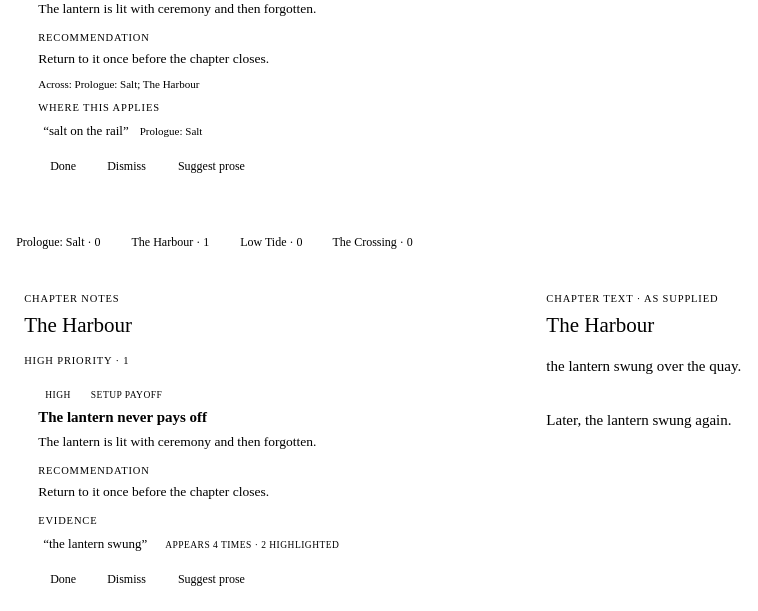
NotesScreen · results › suggests prose for a note and says nothing is saved
(page scrolled)
What coordinates should you click on to do the following:
click the button "Suggest prose" below "appears 4 times · 2 highlighted"
I would click on:
 (211, 580)
Its box is [165,565,258,595].
(page scrolled)
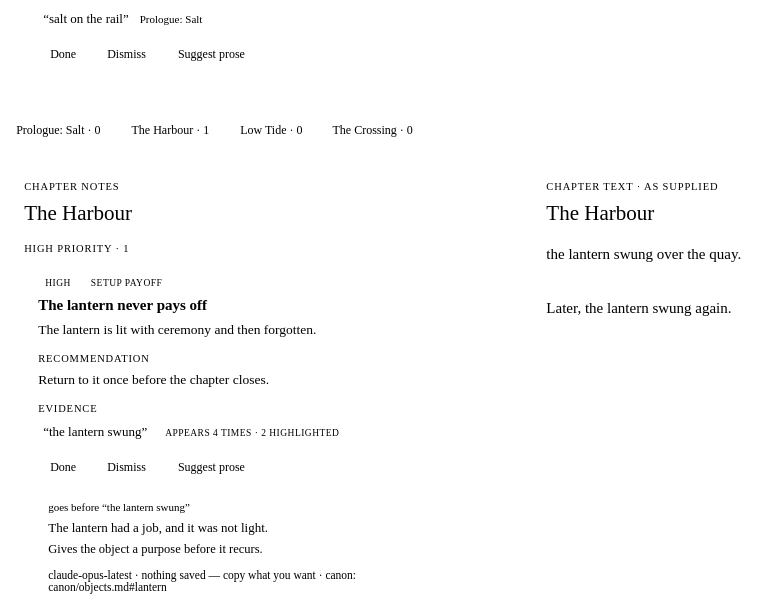
Result: the text "The lantern had a job, and it was not light." is shown at [48,520,268,535]
Result: the text "nothing saved" is shown at [48,569,316,581]
